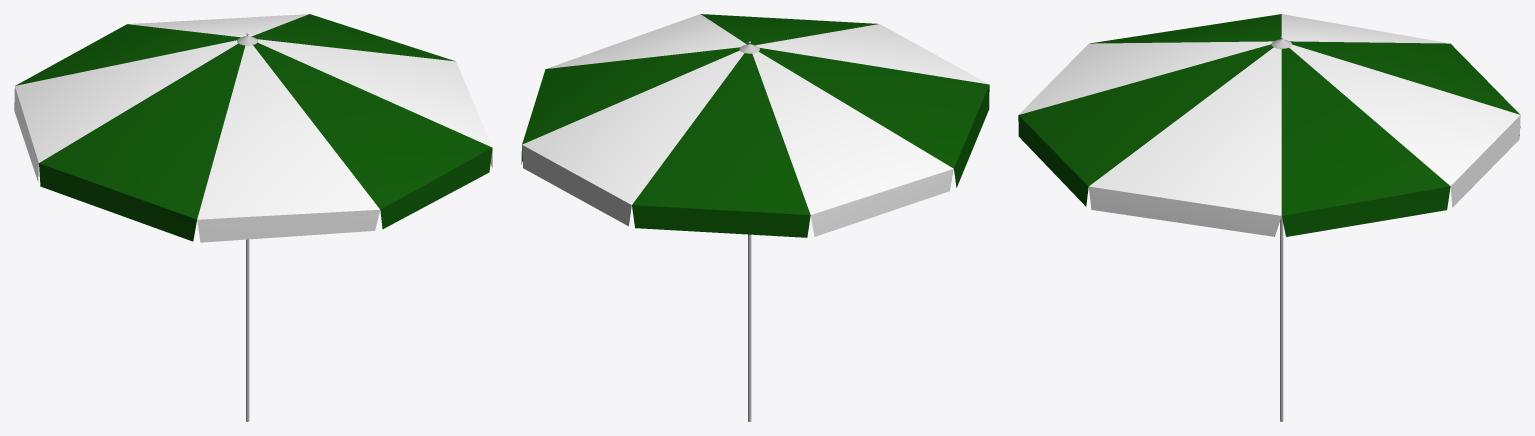
The model's file is green umbrella.fbx.
3 views of the same model, side by side, from view 1: azimuth 30°, elevation 25°; view 2: azimuth 150°, elevation 25°; view 3: azimuth 270°, elevation 25° (orthographic). The views are drawn at different scales.
Parts seen in each view (by area): view 1: umbrella, bar; view 2: umbrella, bar; view 3: umbrella, bar.
Part boxes in pixels (bbox=[...]): umbrella: bbox=[14, 14, 492, 242]; bar: bbox=[246, 239, 249, 421]; umbrella: bbox=[521, 14, 989, 237]; bar: bbox=[748, 234, 751, 421]; umbrella: bbox=[1018, 14, 1520, 236]; bar: bbox=[1280, 216, 1283, 421].
Size of the model in its own units: 485 by 431 by 510.
